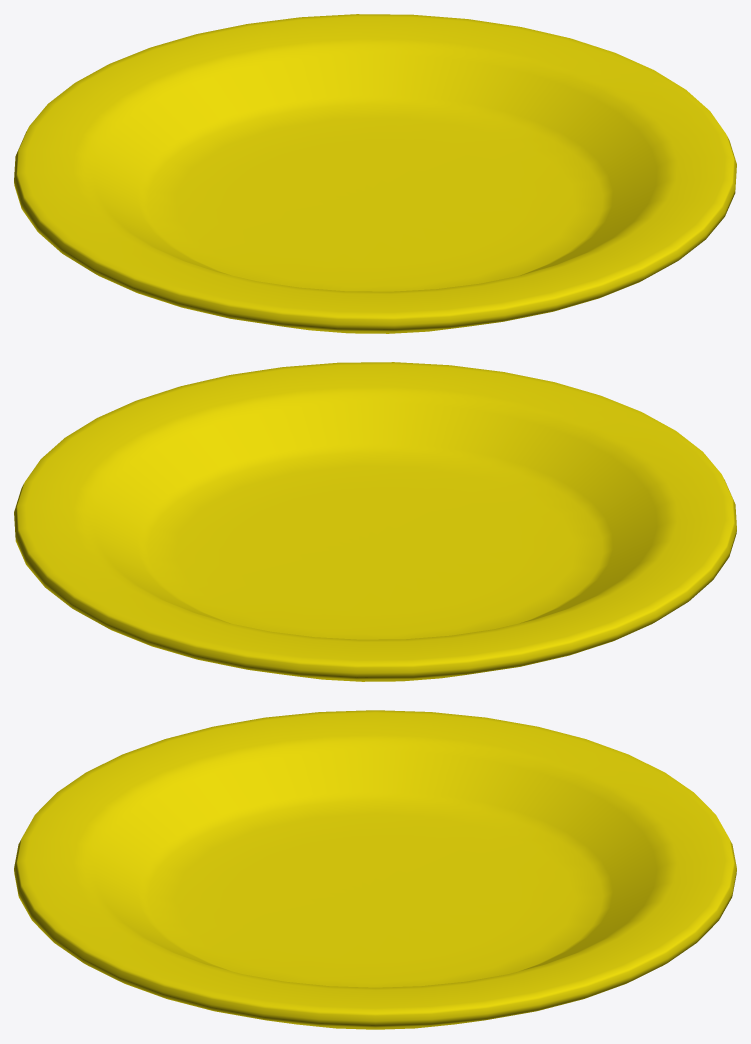
Rendered from Cup_Plate.fbx.
The picture shows the model from 3 angles, top to bottom: view 1: azimuth 30°, elevation 25°; view 2: azimuth 150°, elevation 25°; view 3: azimuth 270°, elevation 25°; orthographic projection.
Visible parts, largest first — view 1: Cup_Plate; view 2: Cup_Plate; view 3: Cup_Plate.
Boxes of the visible parts, x1,y1,x2,y2 form: Cup_Plate: (14, 14, 736, 333); Cup_Plate: (14, 362, 736, 681); Cup_Plate: (14, 710, 736, 1029).
Bounding box in the file's own units: 53.53 × 5.17 × 53.53.
